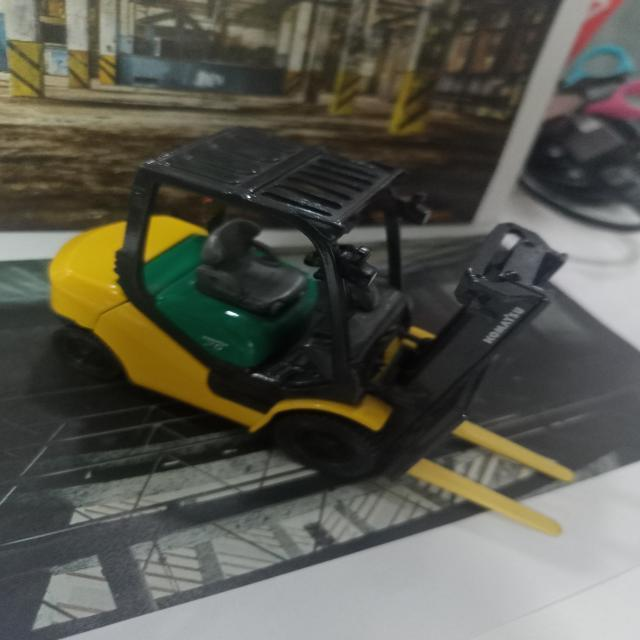forklift: (47, 124, 475, 467)
